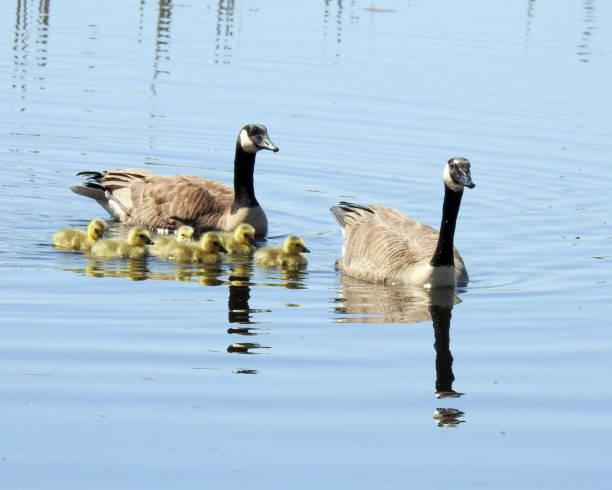Canadian-Goose: (74, 117, 282, 242), (337, 154, 480, 291), (165, 232, 226, 270), (252, 235, 314, 272), (92, 230, 148, 255), (57, 218, 99, 249), (215, 223, 257, 248)
